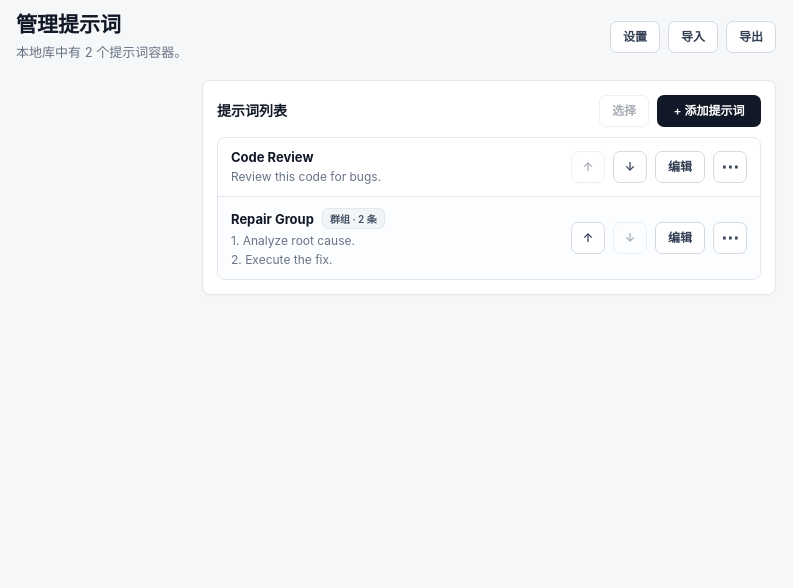
Scenario: prompt manager › shows existing group interval in seconds while editing
Step 1. Click the button "编辑" in the row of "群组 · 2 条" → (680, 238), box [655,222,705,254]
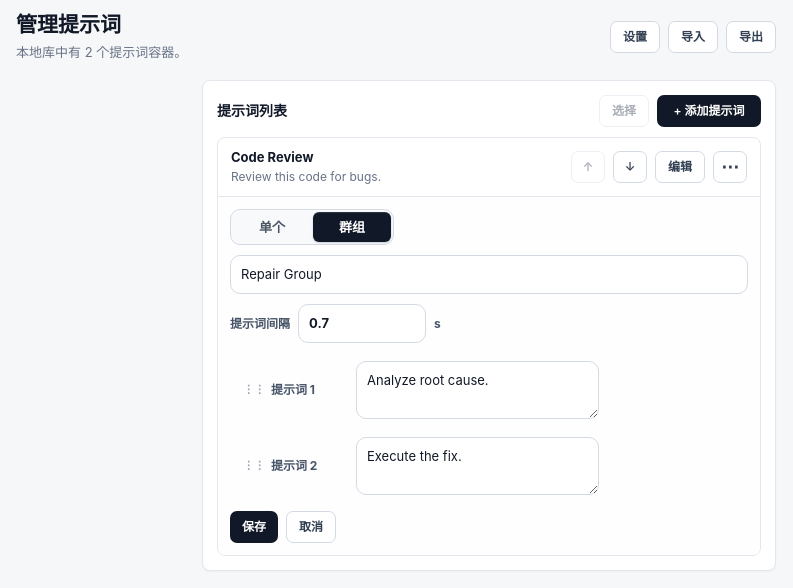
Now the number field labelled "提示词间隔" holds "0.7", box [298,304,426,343]
